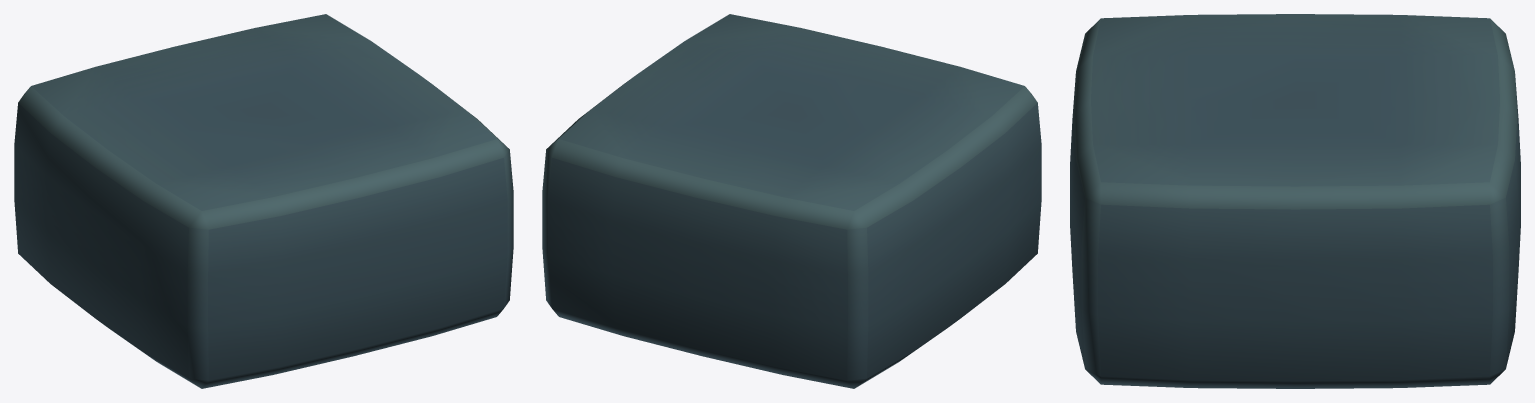
The model's file is cube_06_shade_5_LOD_setup.fbx.
The picture shows the model from 3 angles, left to right: view 1: azimuth 30°, elevation 25°; view 2: azimuth 150°, elevation 25°; view 3: azimuth 270°, elevation 25°; orthographic projection. The views are drawn at different scales.
Visible parts, largest first — view 1: cube_06_shade_5_LOD0; view 2: cube_06_shade_5_LOD0; view 3: cube_06_shade_5_LOD0.
Part boxes in pixels (x1,y1,x2,y2): cube_06_shade_5_LOD0: (14, 14, 513, 388); cube_06_shade_5_LOD0: (542, 14, 1041, 388); cube_06_shade_5_LOD0: (1070, 14, 1520, 388).
Size of what is drawn, in the model's own units: 219 by 108 by 218.
